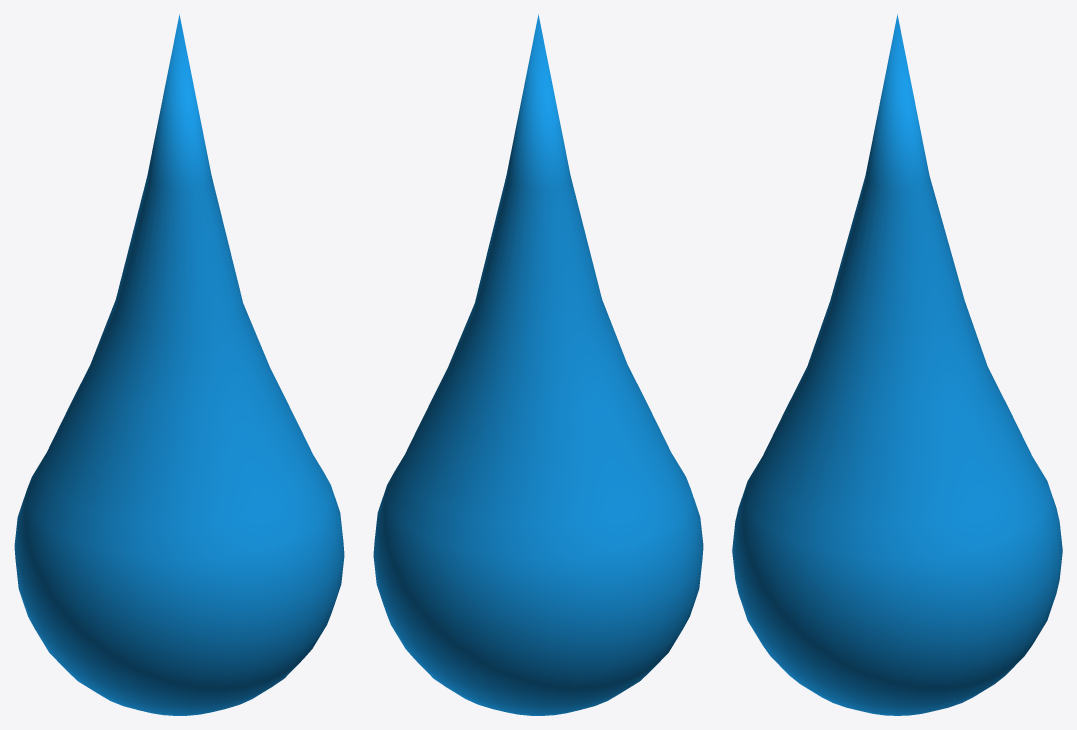
Rendered from waterDrop.fbx.
3 views of the same model, side by side, from view 1: azimuth 30°, elevation 25°; view 2: azimuth 150°, elevation 25°; view 3: azimuth 270°, elevation 25° (orthographic).
Visible parts, largest first — view 1: Sphere; view 2: Sphere; view 3: Sphere.
Boxes of the visible parts, x1,y1,x2,y2 form: Sphere: [14, 14, 344, 715]; Sphere: [373, 14, 703, 715]; Sphere: [732, 14, 1062, 715].
Size of the model in its own units: 200 by 458 by 200.
